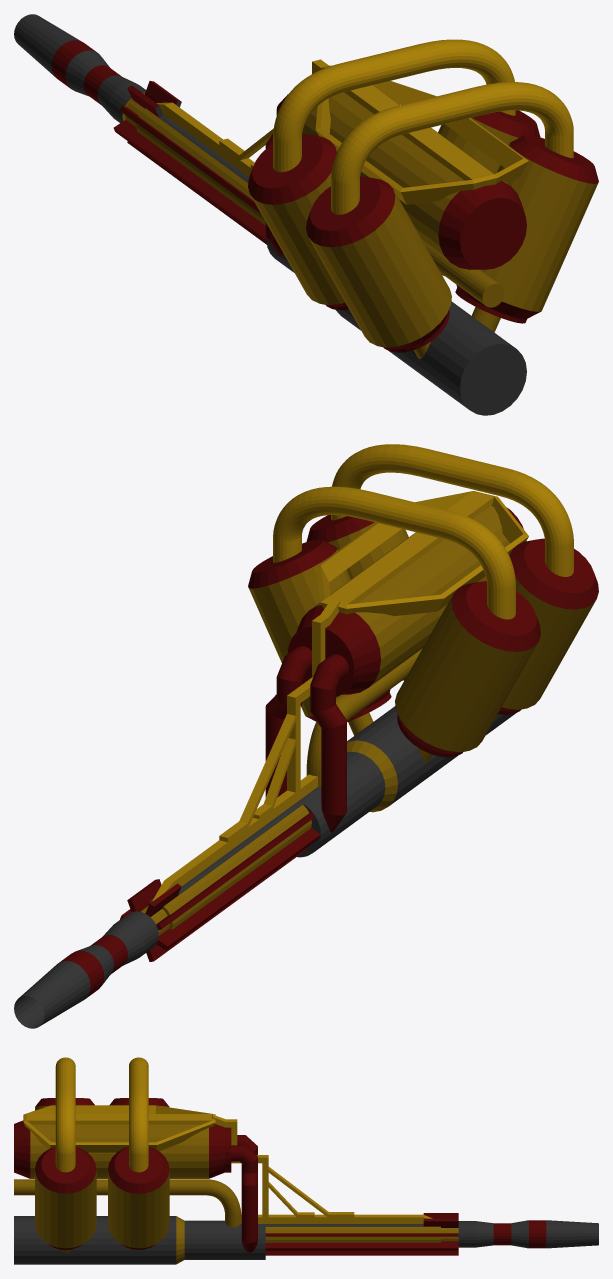
The model's file is flammenwerfer.obj.
3 views of the same model, one above another, from view 1: azimuth 30°, elevation 25°; view 2: azimuth 150°, elevation 25°; view 3: azimuth 270°, elevation 25° (orthographic). The views are drawn at different scales.
Visible parts, largest first — view 1: Mesh01, Group5, Group6, Group2, Model, Mesh02, Mesh04, Group4, Group3, Mesh03; view 2: Mesh01, Model, Group4, Group6, Mesh04, Mesh02, Group5, Group3, Mesh06, Mesh05, Mesh03, Group2; view 3: Mesh01, Model, Group6, Group2, Group3, Mesh02, Mesh04, Mesh03, Mesh05, Group5, Group4.
Boxes of the visible parts, left/top/right/bottom form: Mesh01: left=14, top=14, right=526, bottom=415; Group5: left=306, top=176, right=451, bottom=358; Group6: left=302, top=92, right=526, bottom=269; Group2: left=455, top=134, right=598, bottom=332; Model: left=156, top=59, right=528, bottom=204; Mesh02: left=331, top=82, right=573, bottom=214; Mesh04: left=273, top=39, right=515, bottom=172; Group4: left=248, top=134, right=348, bottom=310; Group3: left=438, top=110, right=540, bottom=275; Mesh03: left=424, top=244, right=504, bottom=307; Mesh01: left=14, top=706, right=515, bottom=1028; Model: left=152, top=491, right=528, bottom=901; Group4: left=395, top=581, right=540, bottom=761; Group6: left=287, top=505, right=523, bottom=696; Mesh04: left=273, top=486, right=515, bottom=619; Mesh02: left=331, top=444, right=573, bottom=576; Group5: left=498, top=538, right=598, bottom=714; Group3: left=248, top=539, right=391, bottom=735; Mesh06: left=310, top=654, right=348, bottom=832; Mesh05: left=265, top=646, right=311, bottom=797; Mesh03: left=306, top=648, right=422, bottom=786; Group2: left=306, top=515, right=408, bottom=680; Mesh01: left=14, top=1213, right=598, bottom=1264; Model: left=23, top=1105, right=432, bottom=1223; Group6: left=14, top=1120, right=231, bottom=1178; Group2: left=35, top=1146, right=96, bottom=1253; Group3: left=108, top=1146, right=169, bottom=1249; Mesh02: left=55, top=1057, right=75, bottom=1172; Mesh04: left=129, top=1057, right=148, bottom=1172; Mesh03: left=14, top=1179, right=241, bottom=1227; Mesh05: left=231, top=1145, right=257, bottom=1252; Group5: left=35, top=1098, right=94, bottom=1110; Group4: left=109, top=1098, right=169, bottom=1107.
Bounding box in the file's own units: 0.5837 × 0.5805 × 1.68.
